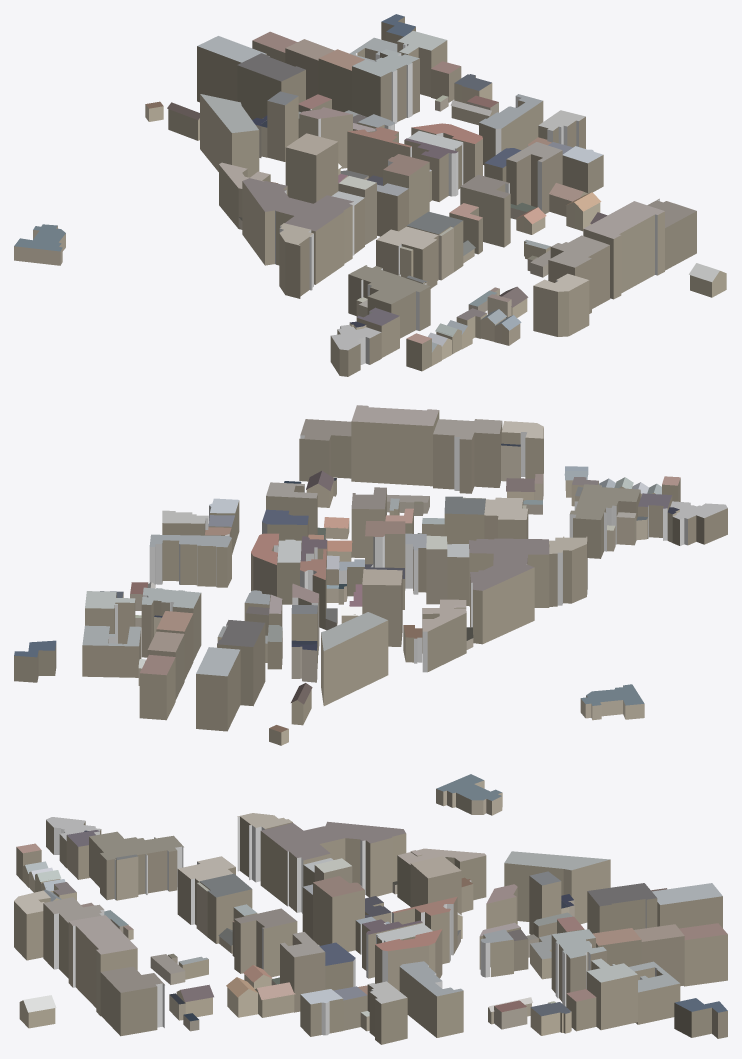
3 views of the same model, one above another, from view 1: azimuth 30°, elevation 25°; view 2: azimuth 150°, elevation 25°; view 3: azimuth 270°, elevation 25° (orthographic). The views are drawn at different scales.
Visible parts, largest first — view 1: tuile; view 2: tuile; view 3: tuile.
Boxes of the visible parts, box(x1,y1,x2,y2) form: tuile: box(14, 14, 726, 376); tuile: box(14, 405, 727, 745); tuile: box(14, 774, 727, 1044).
Size of the model in its own units: 225 by 28.58 by 258.
